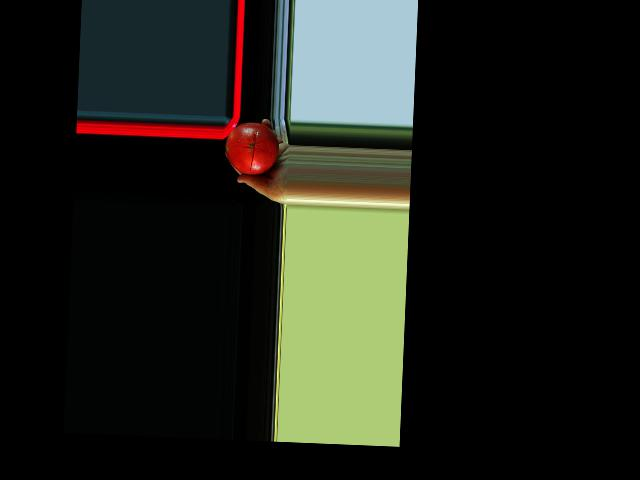tomato: (224, 120, 280, 175)
